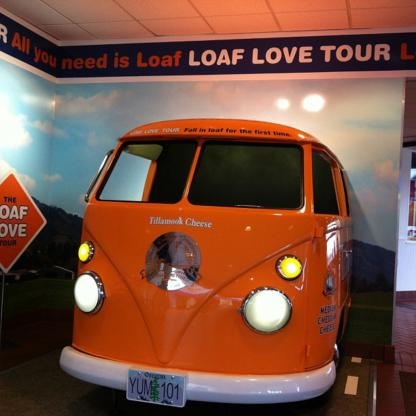Bus: (59, 118, 352, 408)
